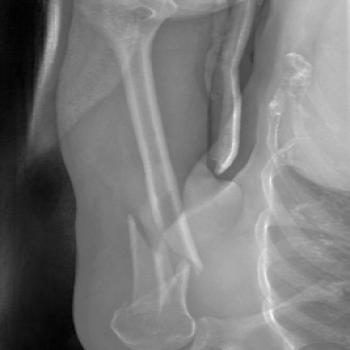Fracture: (121, 208, 211, 278)
